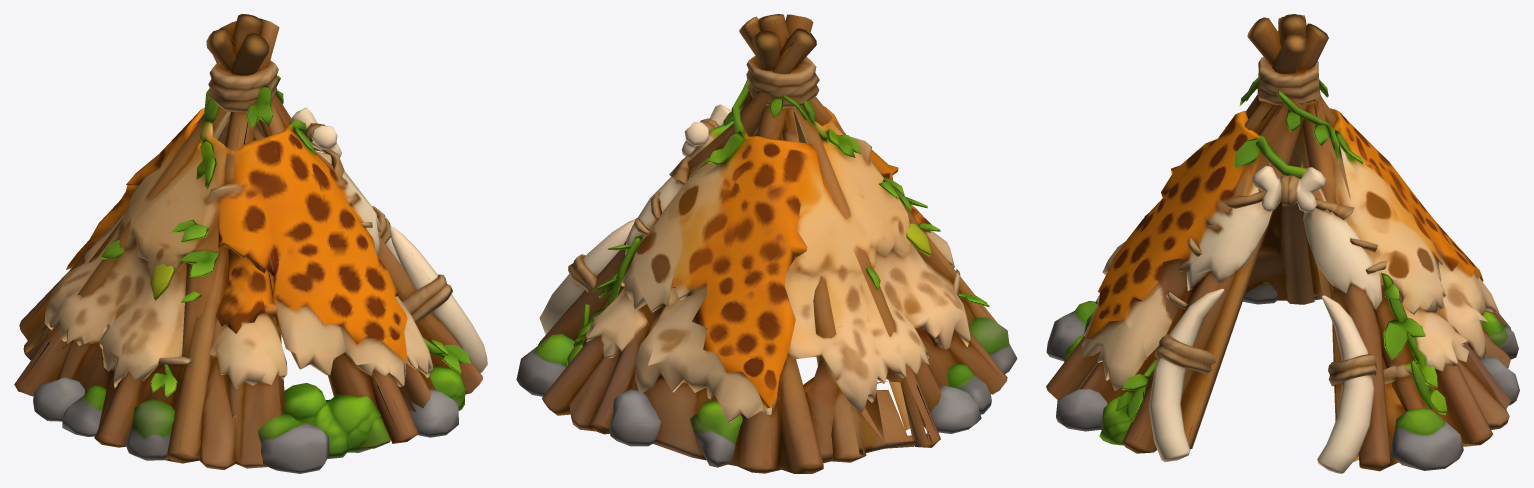
Rendered from hut.glb.
3 views of the same model, side by side, from view 1: azimuth 30°, elevation 25°; view 2: azimuth 150°, elevation 25°; view 3: azimuth 270°, elevation 25° (orthographic). The views are drawn at different scales.
Parts seen in each view (by area): view 1: geometry_0; view 2: geometry_0; view 3: geometry_0.
Part boxes in pixels (bbox=[...]): geometry_0: bbox=[14, 14, 487, 473]; geometry_0: bbox=[516, 14, 1017, 473]; geometry_0: bbox=[1046, 14, 1519, 473].
Bounding box in the file's own units: 0.959 × 0.791 × 0.9365.
1 material, 1 textured.
